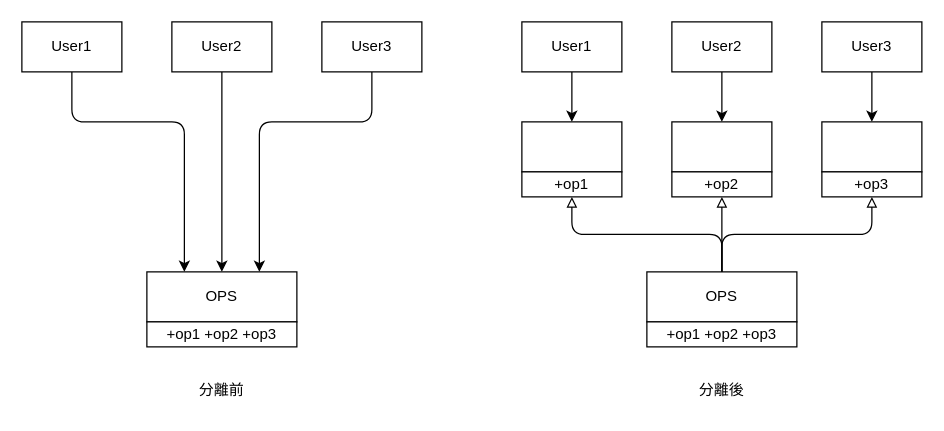
The diagram is 944 pixels wide and 431 high, and some of its shapes have lost their labels. The shapes that lost their labels are listed below. From the top down, each one's centre as x and y in pixels, then its label:
At [571,146]: "<I> U1Ops".
At [721,146]: "<I> U2Ops".
At [871,146]: "<I> U3Ops".
